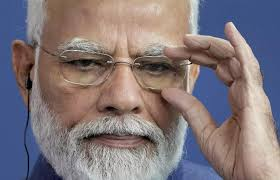s.black: (43, 74, 92, 131)
